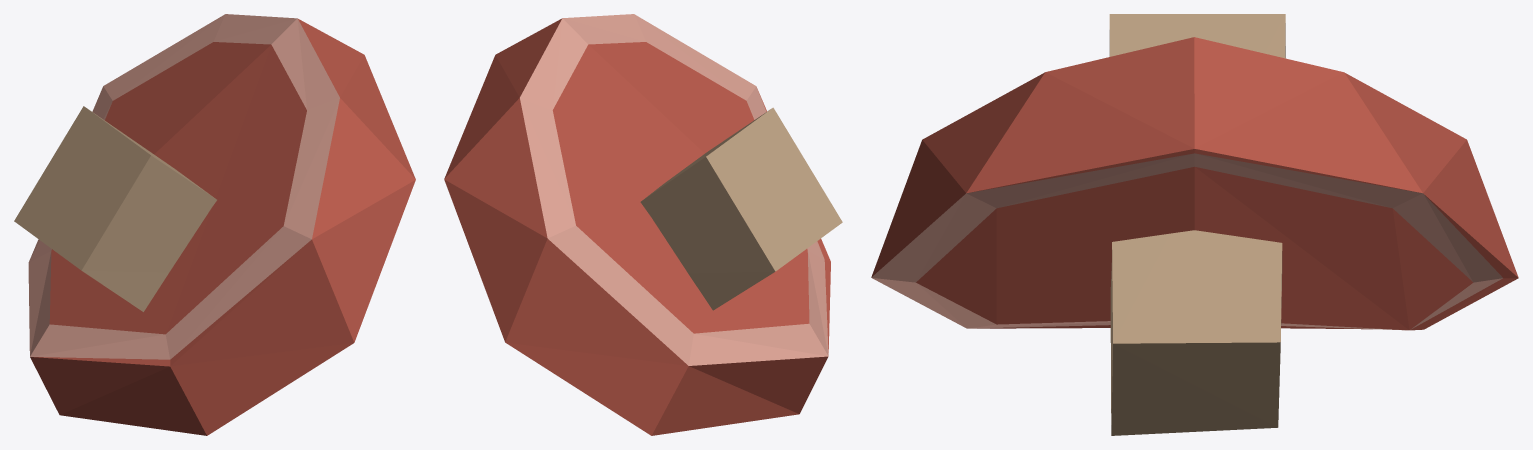
The model's file is hamCut02.fbx.
3 renders of one model, left to right at view 1: azimuth 30°, elevation 25°; view 2: azimuth 150°, elevation 25°; view 3: azimuth 270°, elevation 25°, orthographic. The views are drawn at different scales.
Visible parts, largest first — view 1: hamCut02; view 2: hamCut02; view 3: hamCut02.
Boxes of the visible parts, x1,y1,x2,y2 form: hamCut02: [14, 14, 415, 435]; hamCut02: [444, 14, 842, 435]; hamCut02: [871, 14, 1518, 435].
Bounding box in the file's own units: 9.33 × 9.04 × 12.01.
1 material, 1 textured.
